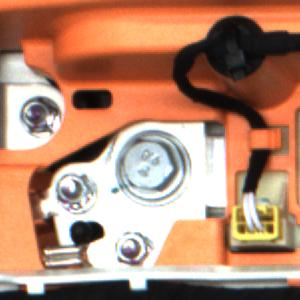nut_b: (113, 126, 191, 209)
screw_s: (50, 166, 97, 212), (12, 91, 56, 138), (112, 232, 157, 270)
